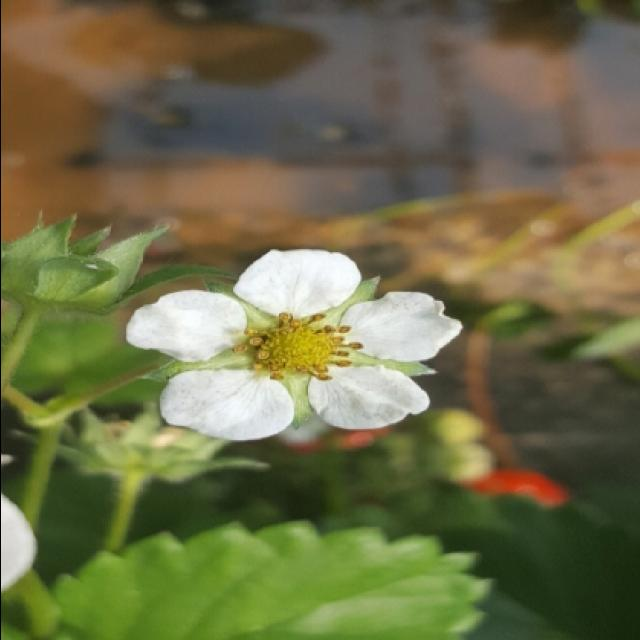Blossom Blight: (228, 307, 366, 385)
